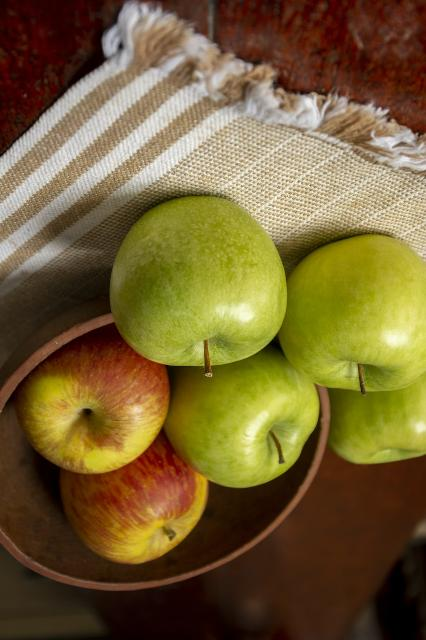Apples: (15, 338, 169, 474), (60, 443, 206, 565)
